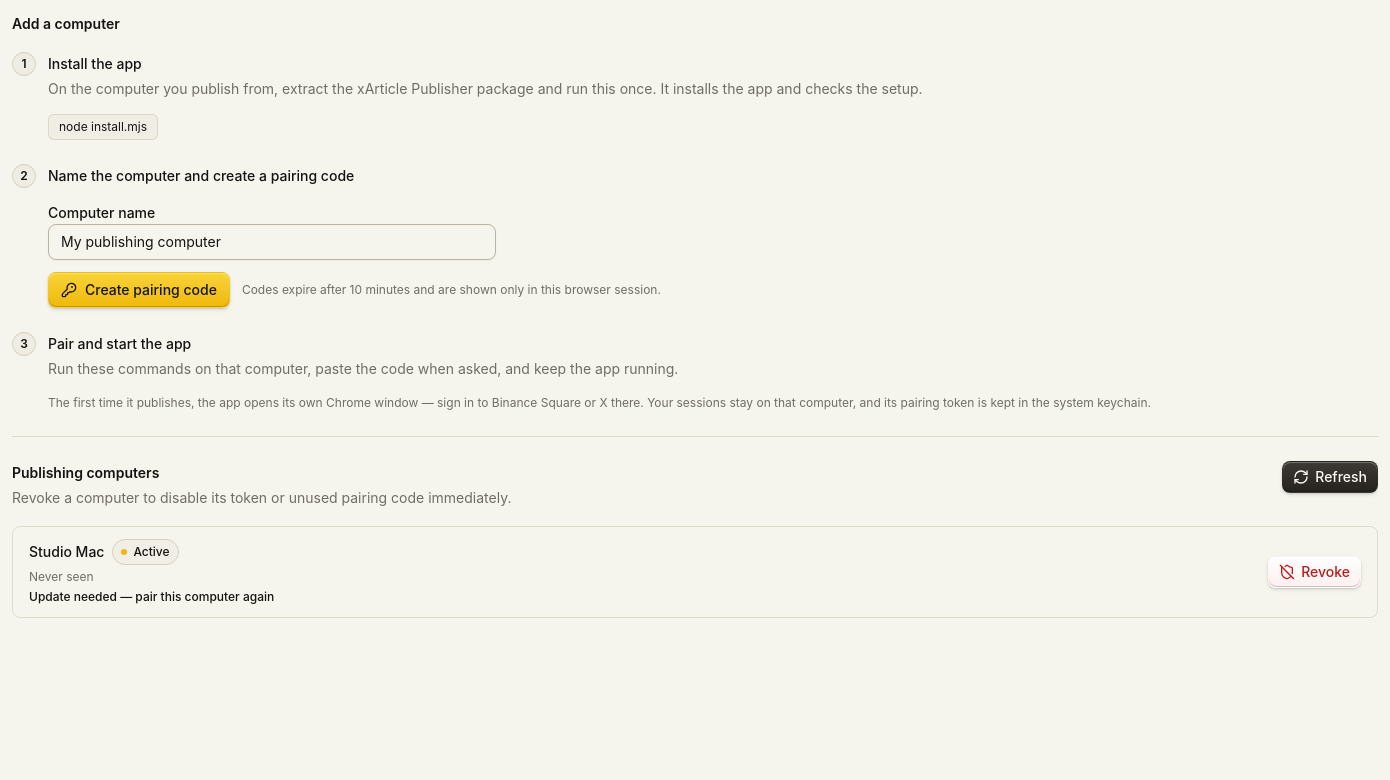
Test: PublisherDevicePairingCard › keeps the last device list visible while a manual refresh is pending
Expected: the list item with aria-label "Publishing device Studio Mac" is shown, [13,527,1377,617]
Click the button "Refresh": (1330, 477) [1282,461,1378,493]
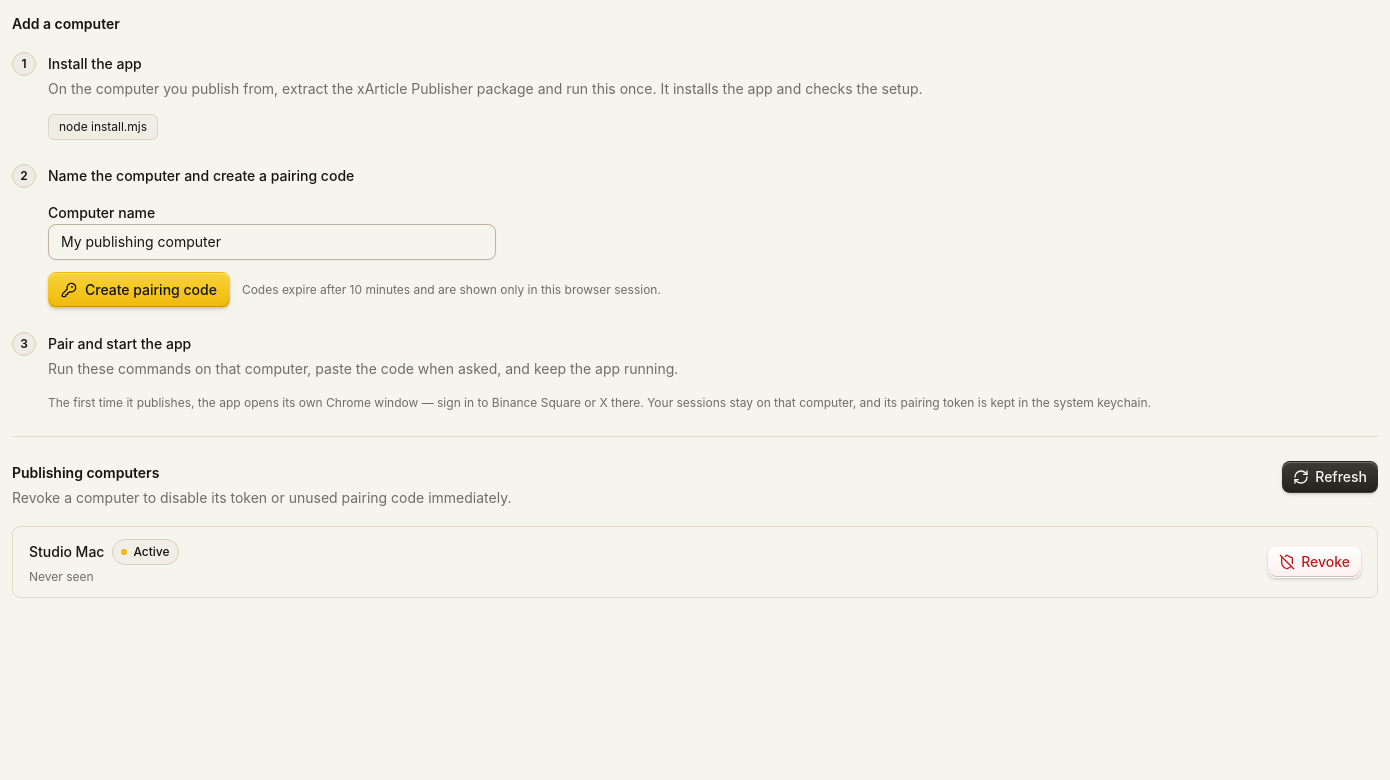
Expected: the list item with aria-label "Publishing device Studio Mac" is shown, [13,527,1377,597]
Expected: the text "Update needed" is gone
